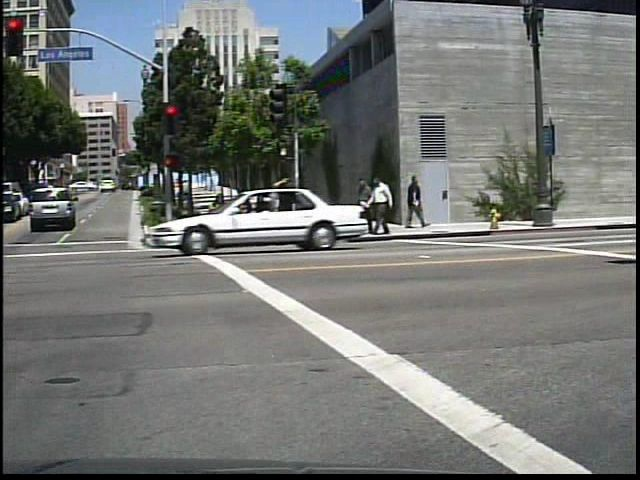person: (403, 172, 432, 229)
